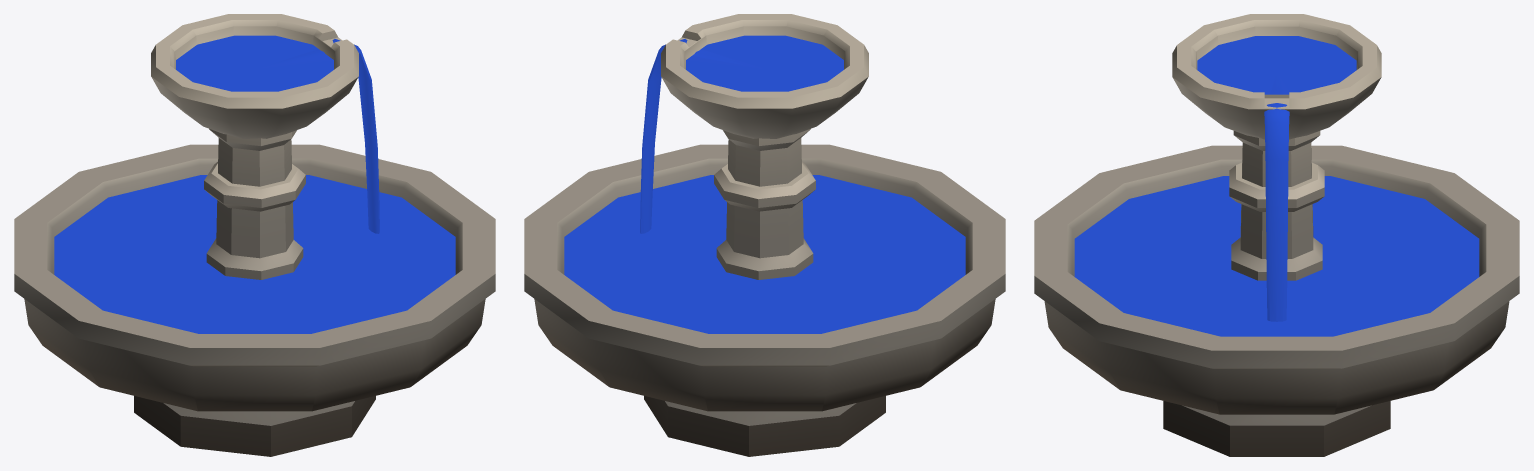
Rendered from fountain_tiered_mana.glb.
3 renders of one model, left to right at view 1: azimuth 30°, elevation 25°; view 2: azimuth 150°, elevation 25°; view 3: azimuth 270°, elevation 25°, orthographic.
Parts seen in each view (by area): view 1: Item, Liquid; view 2: Item, Liquid; view 3: Item, Liquid.
Boxes of the visible parts, x1,y1,x2,y2 form: Item: (14,14,495,456); Liquid: (54,35,455,333); Item: (524,14,1005,456); Liquid: (564,35,965,333); Item: (1034,14,1519,456); Liquid: (1074,36,1479,336).
Size of the model in its own units: 1.97 by 1.58 by 1.97.
2 materials, 2 textured.
